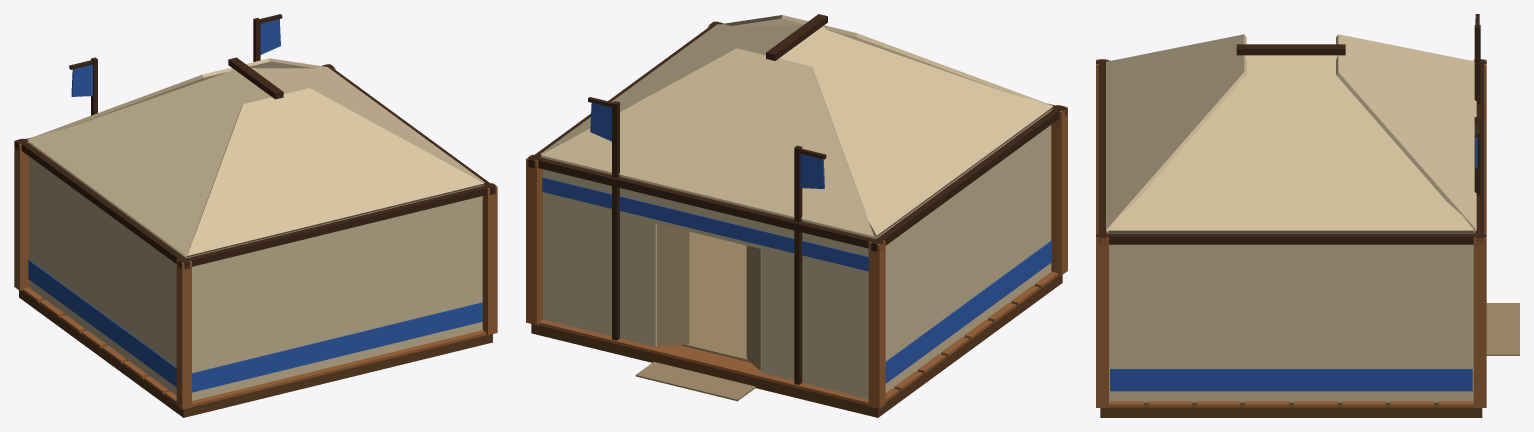
Rendered from 豪华帐篷_手游_中.glb.
3 renders of one model, left to right at view 1: azimuth 30°, elevation 25°; view 2: azimuth 150°, elevation 25°; view 3: azimuth 270°, elevation 25°, orthographic. The views are drawn at different scales.
Parts seen in each view (by area): view 1: TN3-主体, TN3-team; view 2: TN3-主体, TN3-team; view 3: TN3-主体, TN3-team.
Part boxes in pixels (<box>): TN3-主体: <box>14,14,497,417</box>; TN3-team: <box>28,19,482,392</box>; TN3-主体: <box>526,14,1067,417</box>; TN3-team: <box>542,103,1051,383</box>; TN3-主体: <box>1096,14,1519,417</box>; TN3-team: <box>1107,19,1477,391</box>.
Size of the model in its own units: 5.2 by 3.85 by 5.21.
Materials: 2 (1 with a texture image).
